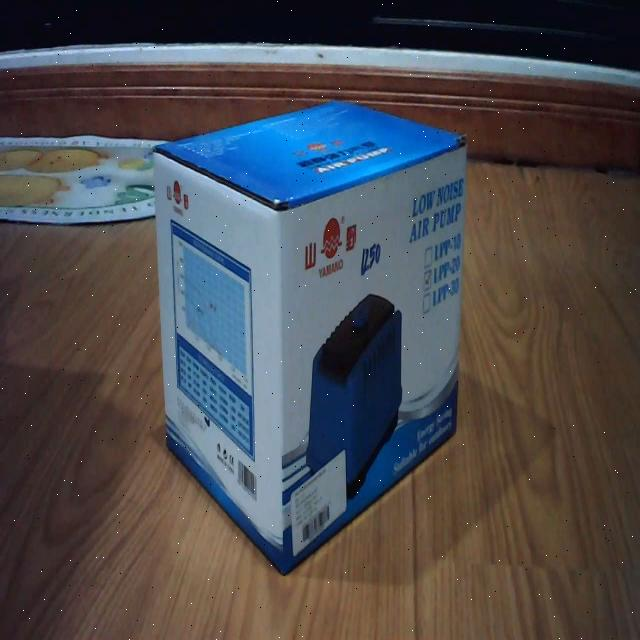YAMANO_LPP_20: (150, 80, 478, 588)
